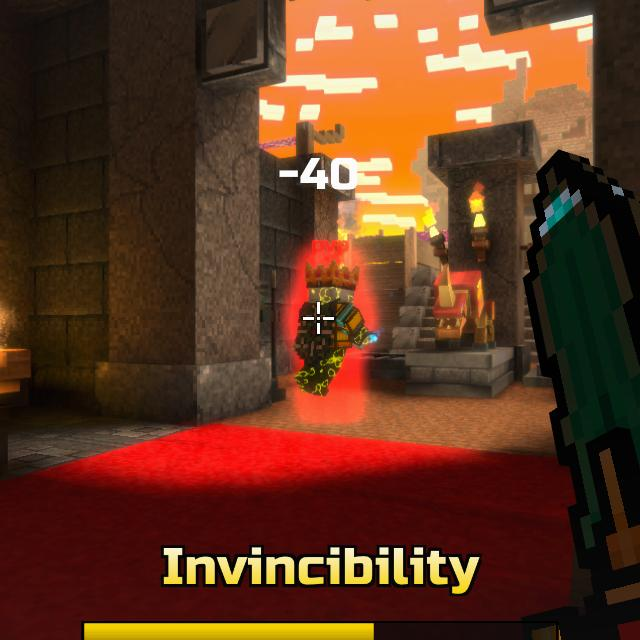Enemy: (293, 270, 377, 397)
